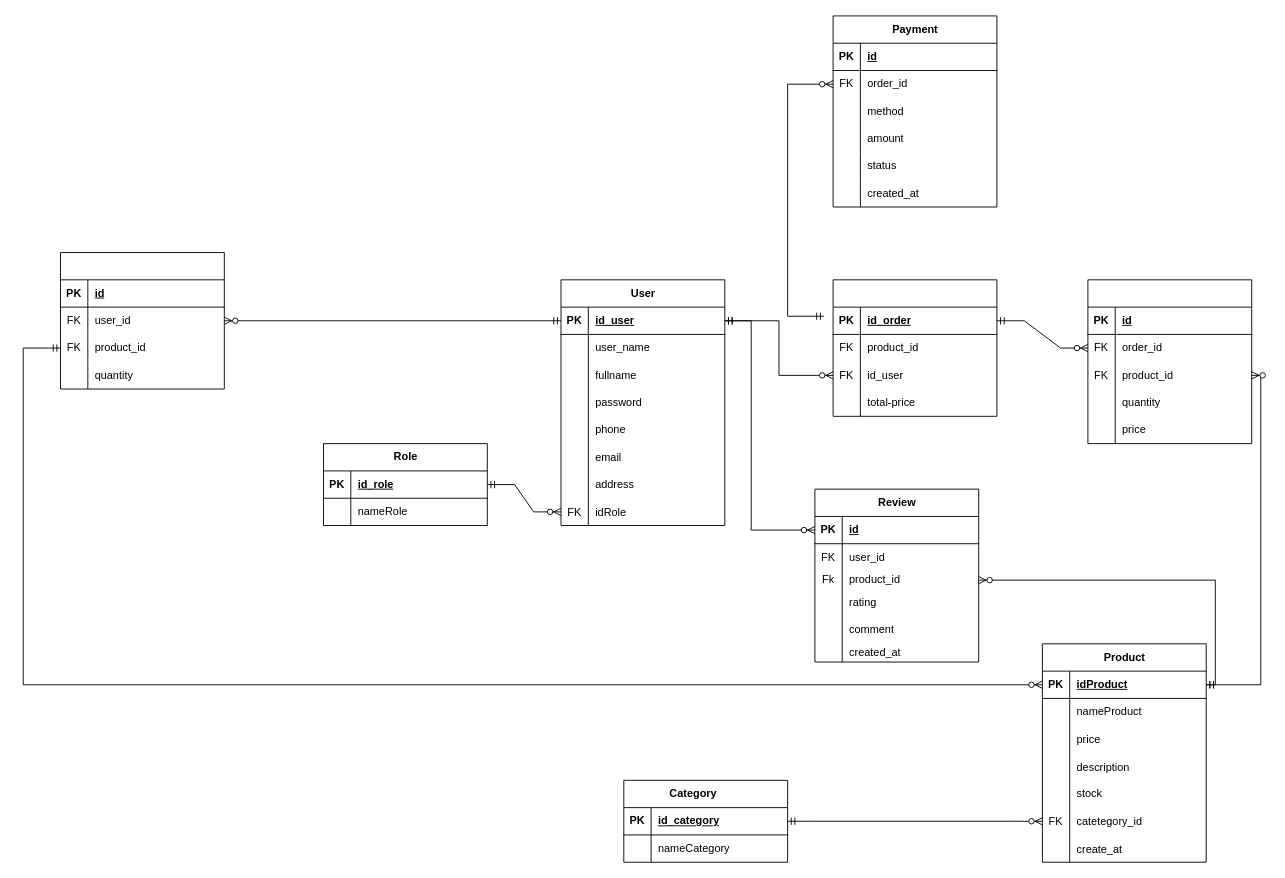
This 1285x878 diagram has some shape labels left out. Here are the shapes that lost their labels. From the top down, the box of each, then its label:
(60, 252, 224, 389): Cart
(832, 279, 997, 416): Orders
(1087, 279, 1252, 444): Order_Detail
